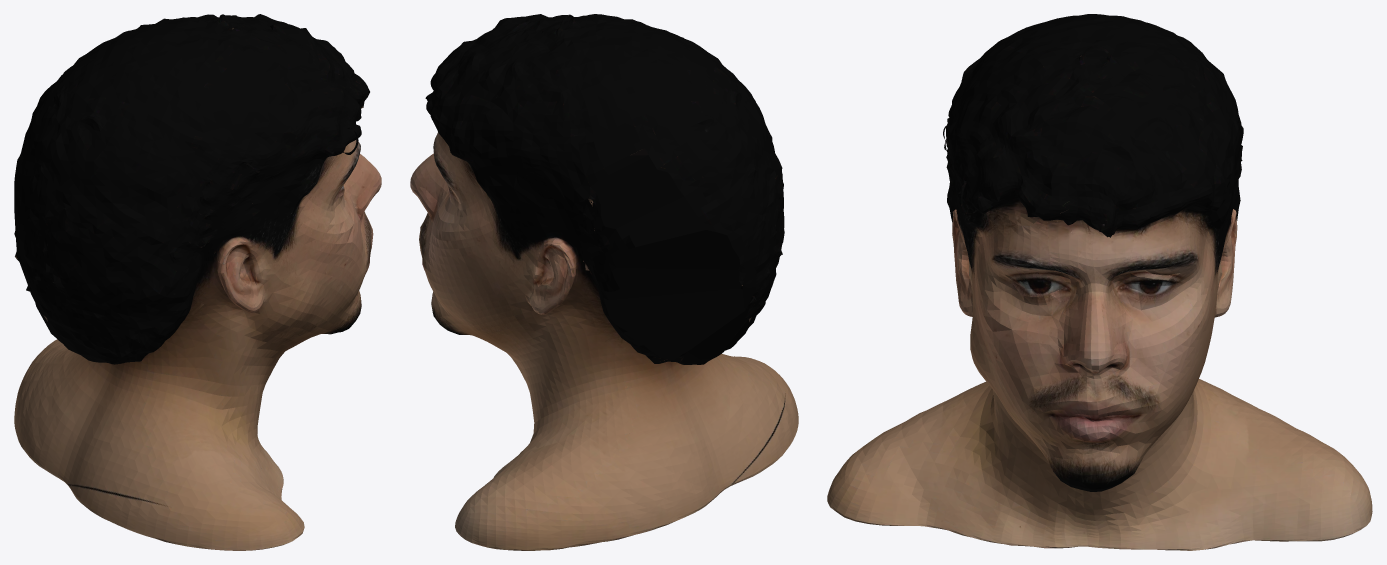
The picture shows the model from 3 angles, left to right: view 1: azimuth 30°, elevation 25°; view 2: azimuth 150°, elevation 25°; view 3: azimuth 270°, elevation 25°; orthographic projection. The views are drawn at different scales.
Parts seen in each view (by area): view 1: tripo_node_4bfca299-e3da-49f7-8247-1c2d0f6672db; view 2: tripo_node_4bfca299-e3da-49f7-8247-1c2d0f6672db; view 3: tripo_node_4bfca299-e3da-49f7-8247-1c2d0f6672db.
Boxes of the visible parts, box(x1,y1,x2,y2) form: tripo_node_4bfca299-e3da-49f7-8247-1c2d0f6672db: box(14, 14, 381, 550); tripo_node_4bfca299-e3da-49f7-8247-1c2d0f6672db: box(410, 14, 798, 550); tripo_node_4bfca299-e3da-49f7-8247-1c2d0f6672db: box(827, 14, 1372, 550).
Size of the model in its own units: 0.8454 by 0.9918 by 0.9984.
1 material, 1 textured.
